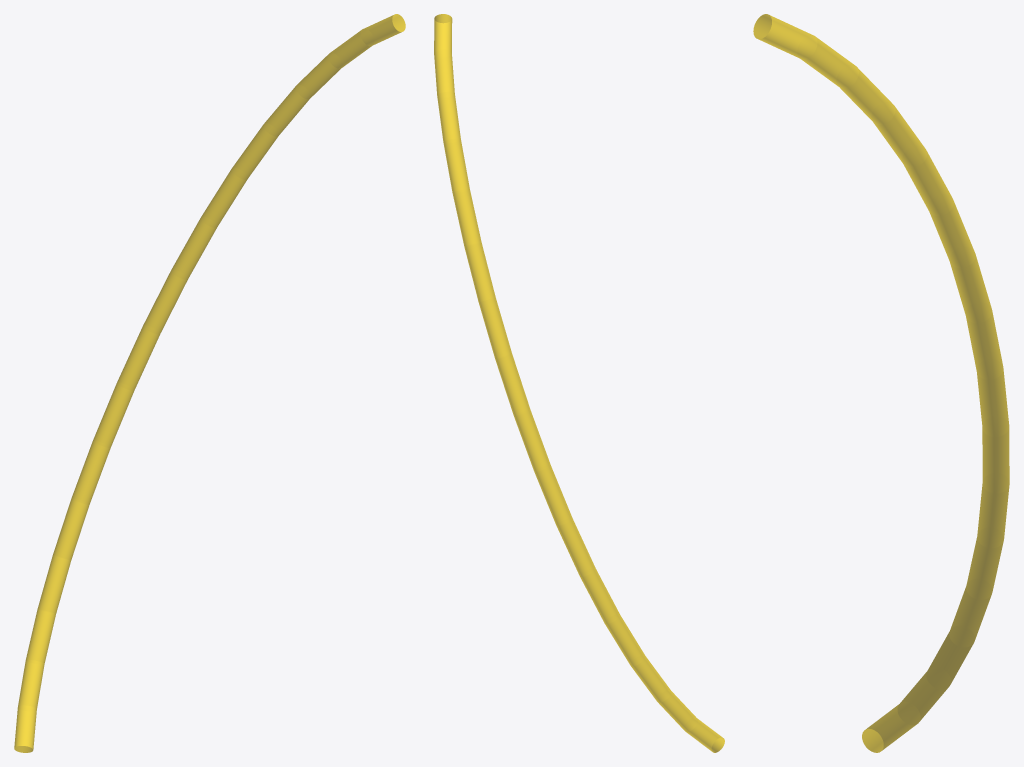
Rendered from Event_17758602_track_135.fbx.
3 renders of one model, left to right at view 1: azimuth 30°, elevation 25°; view 2: azimuth 150°, elevation 25°; view 3: azimuth 270°, elevation 25°, orthographic. The views are drawn at different scales.
Parts seen in each view (by area): view 1: Model; view 2: Model; view 3: Model.
Boxes of the visible parts, x1,y1,x2,y2 form: Model: [14, 14, 405, 752]; Model: [434, 14, 724, 752]; Model: [753, 14, 1009, 752].
Size of the model in its own units: 0.8416 by 1.57 by 0.3792.
